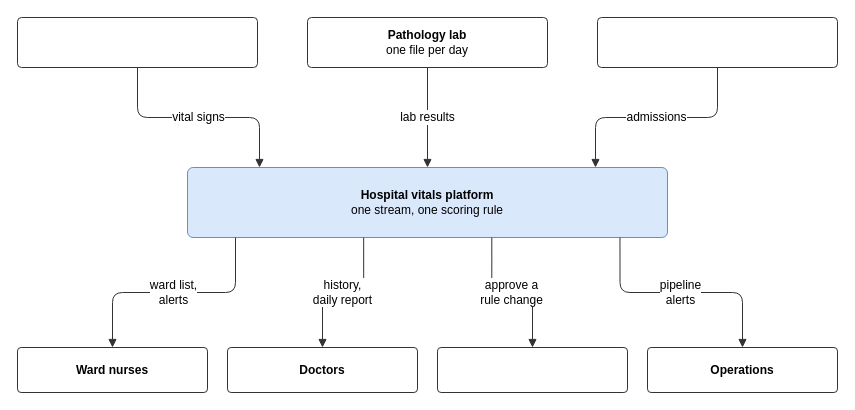
Some shapes in this 855 by 410 pixel diagram are drawn without their labels. The shapes that lost their labels are listed below. From the top down, each one's centre as x and y in pixels, then its label:
At [137,42]: "Bedside monitors 40 beds".
At [717,42]: "Admissions bed, COPD flag".
At [532,369]: "Clinical governance".
